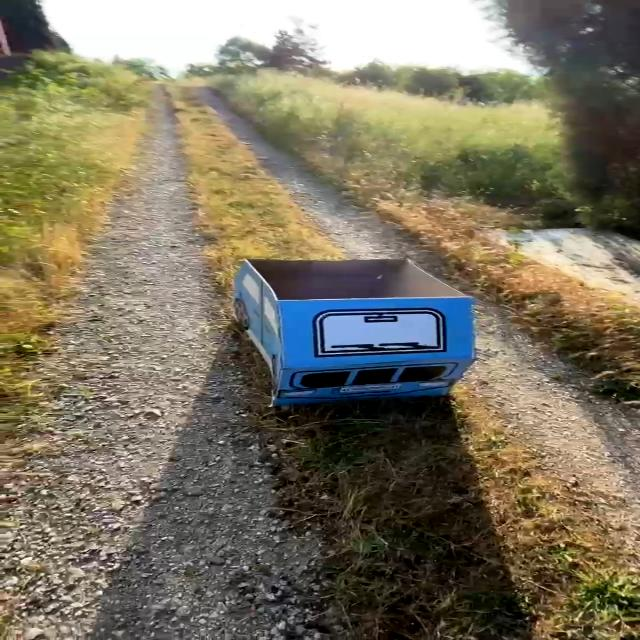blue_car: (157, 231, 535, 430)
